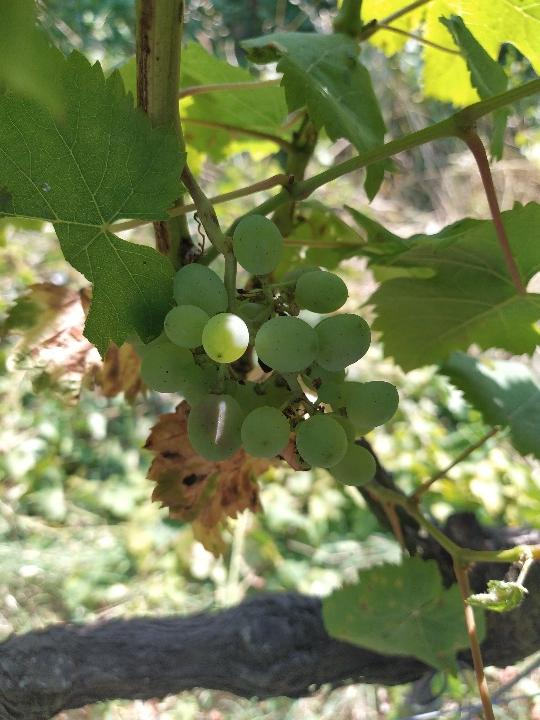grape: (130, 212, 402, 487)
